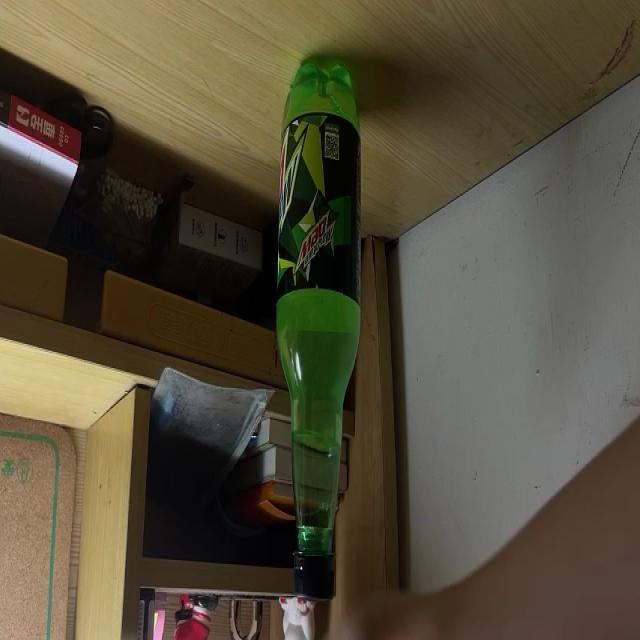Mountain-Dew: (274, 59, 361, 604)
